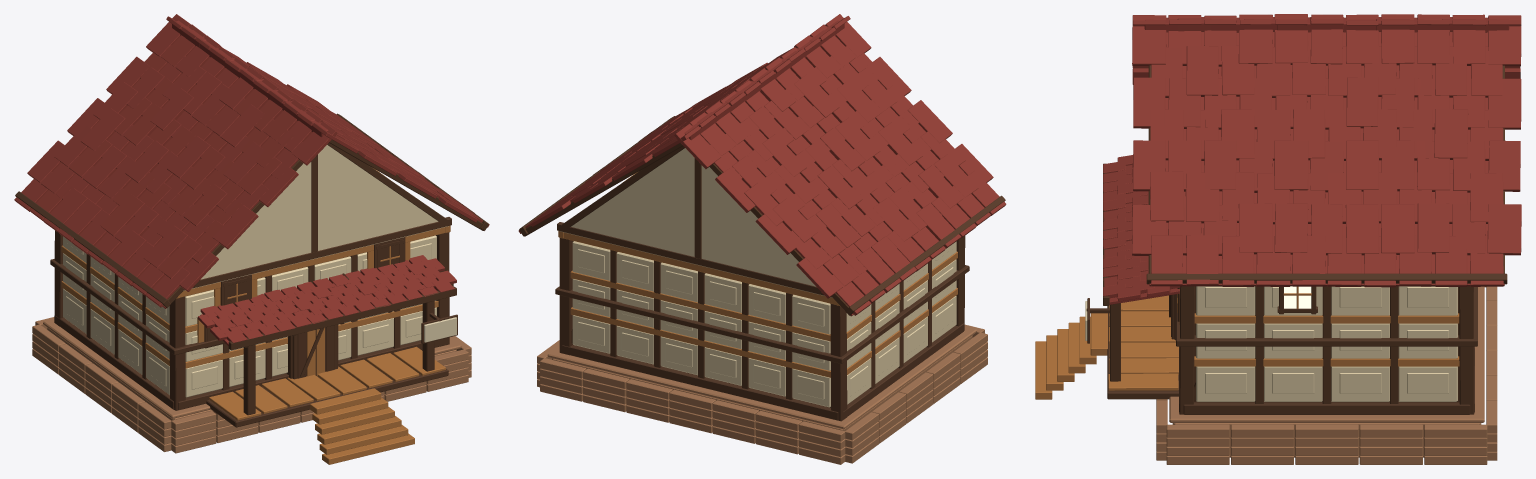
File: building_inn_a.glb
3 views of the same model, side by side, from view 1: azimuth 30°, elevation 25°; view 2: azimuth 150°, elevation 25°; view 3: azimuth 270°, elevation 25° (orthographic). The views are drawn at different scales.
Parts seen in each view (by area): view 1: building_inn_a_LOD0; view 2: building_inn_a_LOD0; view 3: building_inn_a_LOD0.
Boxes of the visible parts, <box> form: building_inn_a_LOD0: <box>14,14,489,464</box>; building_inn_a_LOD0: <box>518,14,1006,464</box>; building_inn_a_LOD0: <box>1035,14,1521,464</box>.
Size of what is drawn, in the model's own units: 9.22 by 7.81 by 9.64.
